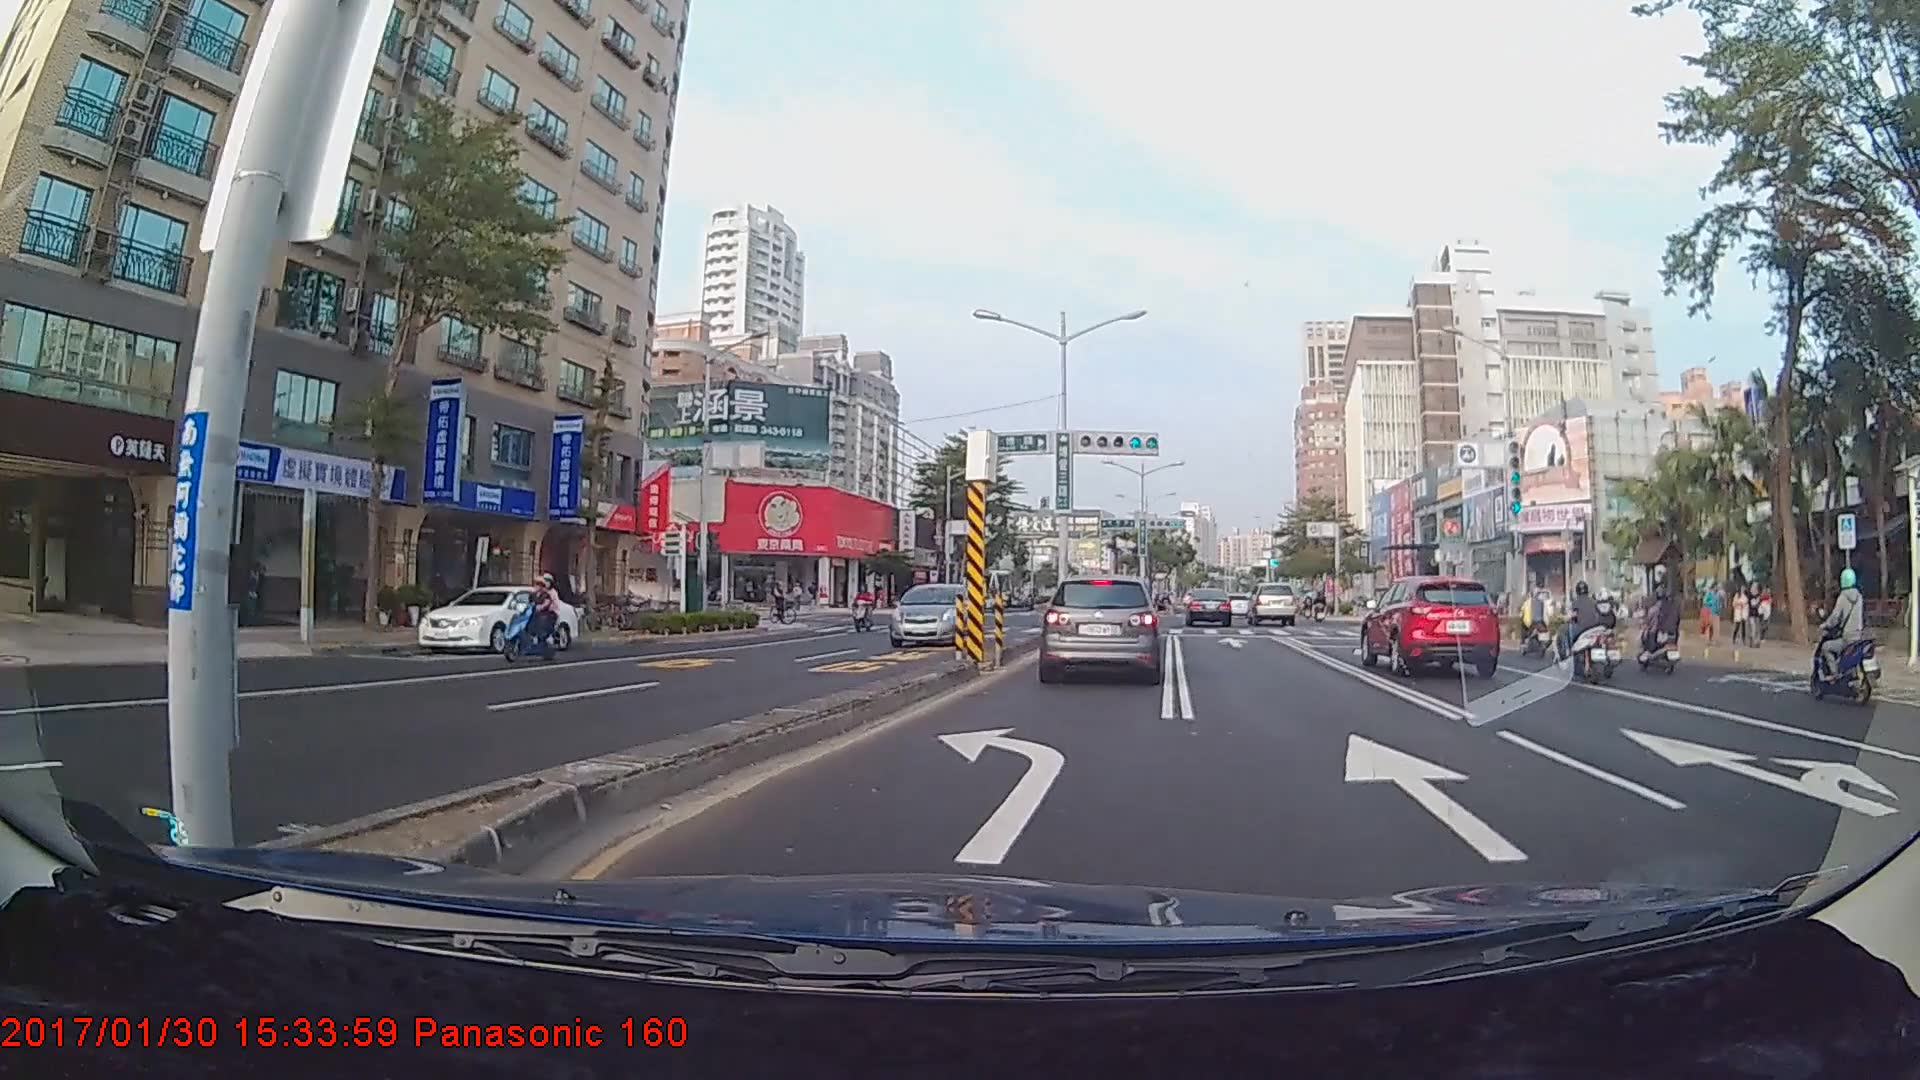pedestrian: (1700, 580, 1724, 649), (1732, 581, 1752, 643), (1747, 581, 1767, 645)
rider: (1806, 568, 1884, 707), (1550, 574, 1618, 679), (495, 571, 567, 667), (1631, 583, 1683, 673), (847, 576, 875, 636), (766, 576, 796, 629)
vehicle: (1361, 570, 1504, 679), (1036, 571, 1161, 686), (418, 583, 578, 656), (887, 581, 979, 645), (1247, 581, 1296, 627), (1184, 587, 1232, 627)
